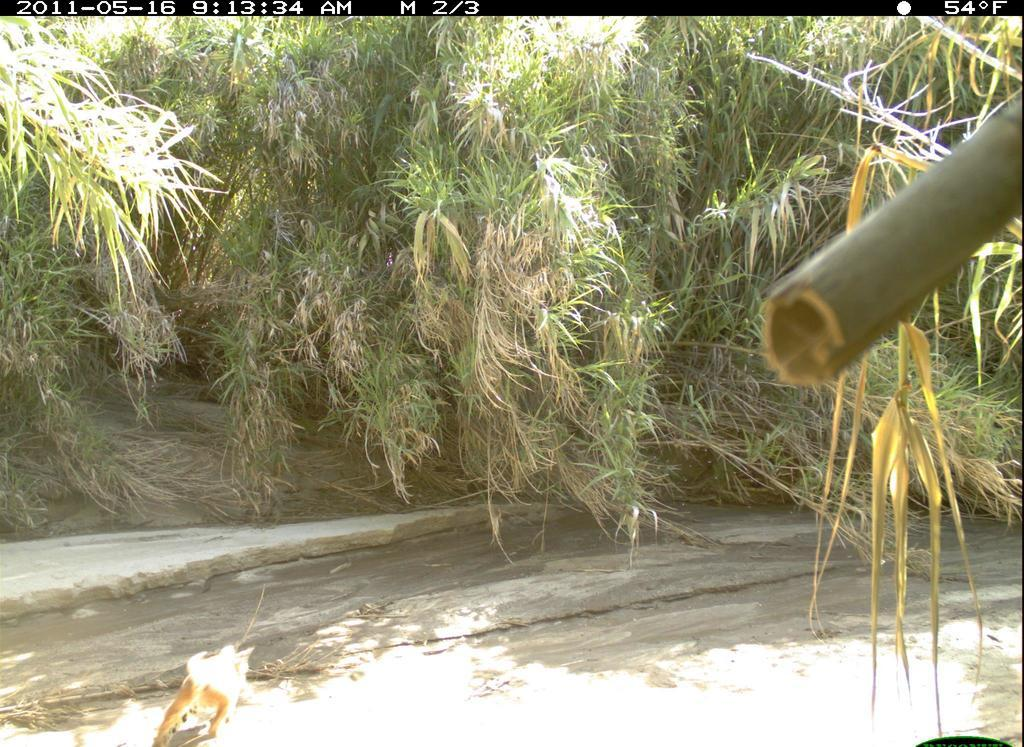bobcat: (149, 638, 268, 745)
